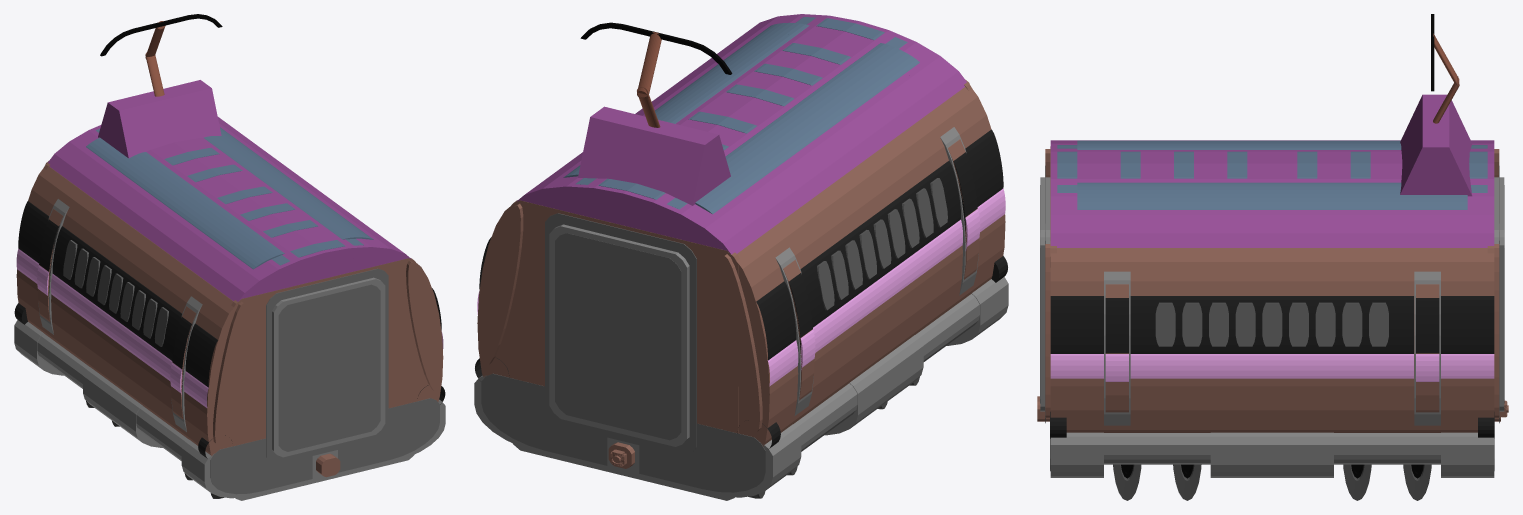
Rendered from JapanWagon.fbx.
The picture shows the model from 3 angles, left to right: view 1: azimuth 30°, elevation 25°; view 2: azimuth 150°, elevation 25°; view 3: azimuth 270°, elevation 25°; orthographic projection. The views are drawn at different scales.
Parts seen in each view (by area): view 1: wagon; view 2: wagon; view 3: wagon.
Part boxes in pixels (bbox=[...]): wagon: bbox=[14, 14, 445, 500]; wagon: bbox=[474, 14, 1008, 500]; wagon: bbox=[1037, 14, 1508, 500].
Bounding box in the file's own units: 216 × 309 × 311.
Materials: 1 (1 with a texture image).
